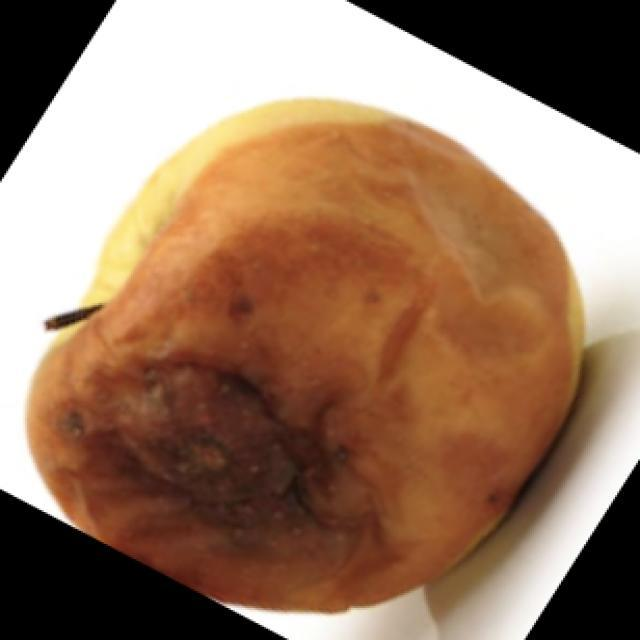Rotten: (58, 93, 573, 640)
